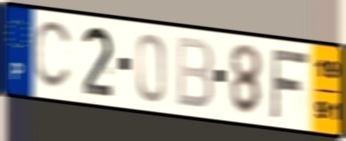0: (134, 31, 167, 105)
2: (81, 25, 115, 99)
8: (228, 41, 264, 118)
B: (175, 34, 216, 112)
C: (33, 19, 75, 93)
F: (269, 46, 311, 121)
